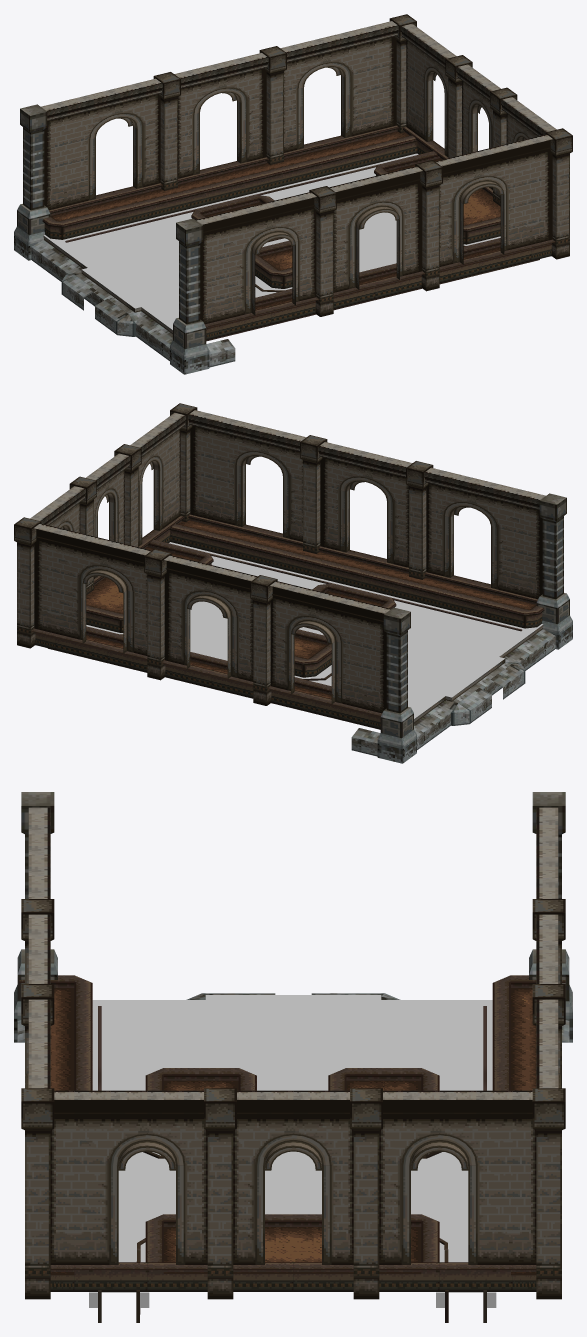
File: EnvBdgMD_Snow_HerbGarden_Indoor.FBX
3 views of the same model, one above another, from view 1: azimuth 30°, elevation 25°; view 2: azimuth 150°, elevation 25°; view 3: azimuth 270°, elevation 25° (orthographic). The views are drawn at different scales.
Visible parts, largest first — view 1: EnvBdgMD_Snow_HerbGarden_Indoor; view 2: EnvBdgMD_Snow_HerbGarden_Indoor; view 3: EnvBdgMD_Snow_HerbGarden_Indoor.
Part boxes in pixels (<box>): EnvBdgMD_Snow_HerbGarden_Indoor: <box>14,14,572,374</box>; EnvBdgMD_Snow_HerbGarden_Indoor: <box>14,403,572,763</box>; EnvBdgMD_Snow_HerbGarden_Indoor: <box>14,792,572,1322</box>.
Size of the model in its own units: 2077 by 705 by 1530.
